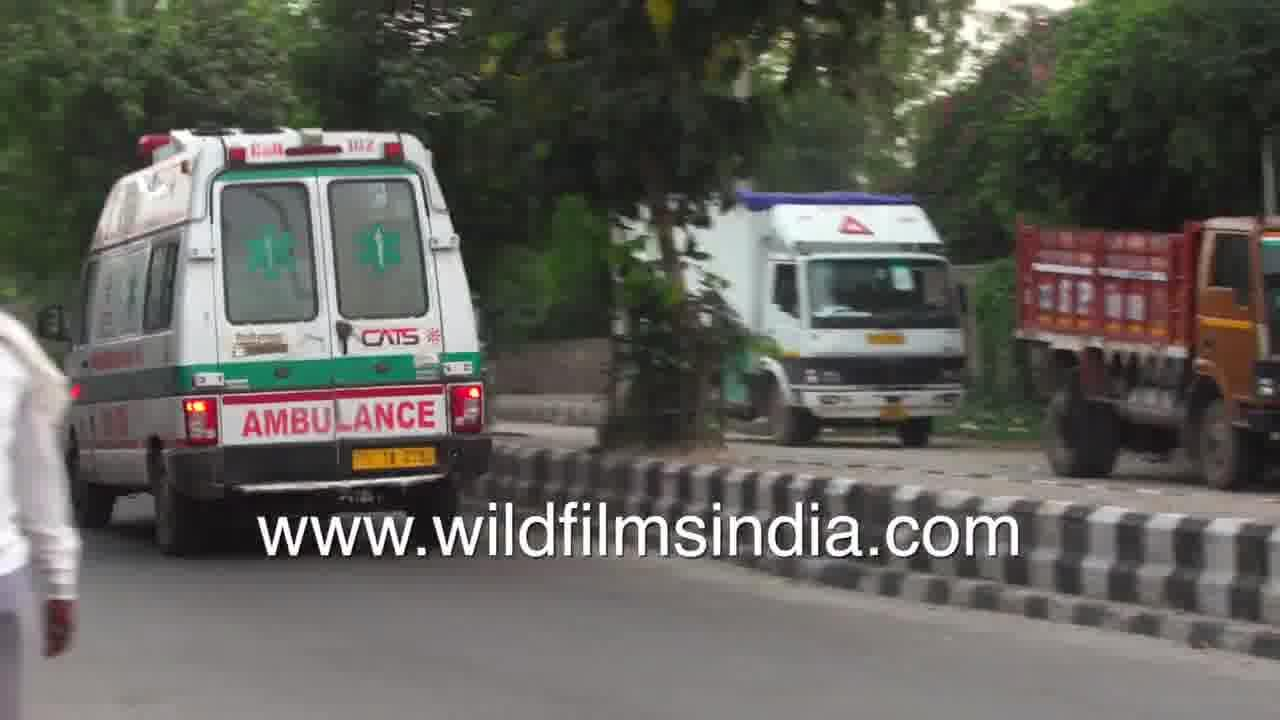AMBULANCE: (67, 122, 499, 508)
